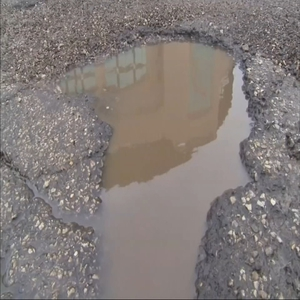pothole: (61, 29, 261, 300)
